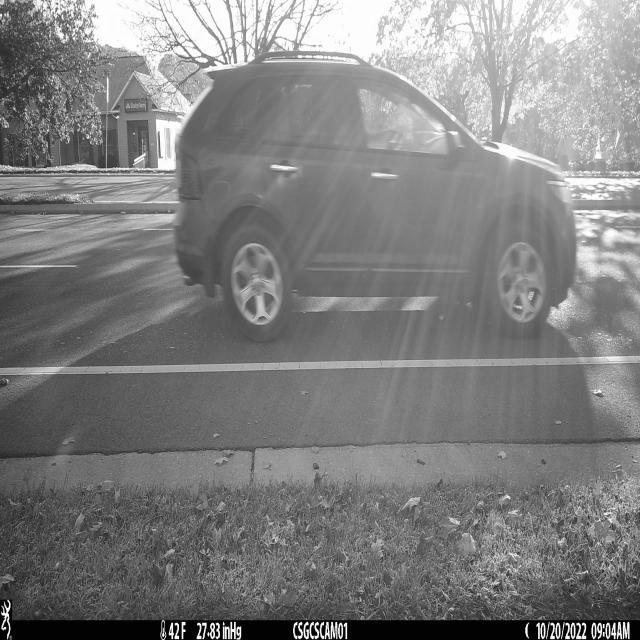SUV: (172, 49, 578, 341)
